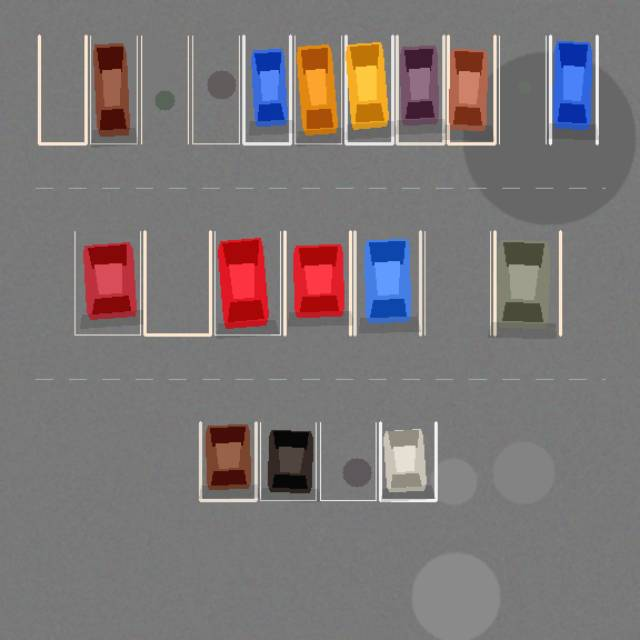space-empty: (144, 231, 210, 334), (424, 231, 490, 334), (39, 36, 86, 143), (141, 36, 188, 143), (192, 36, 239, 143), (499, 36, 546, 143), (320, 422, 376, 500)
space-occupied: (74, 231, 140, 334), (214, 231, 280, 334), (284, 231, 350, 334), (354, 231, 420, 334), (494, 231, 560, 334), (90, 36, 137, 143), (243, 36, 290, 143), (294, 36, 341, 143), (550, 36, 597, 143), (346, 36, 392, 143), (397, 36, 443, 143), (448, 36, 494, 143), (200, 422, 256, 500), (260, 422, 316, 500), (380, 422, 436, 500)
